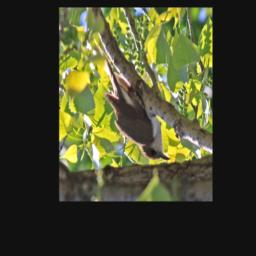Cuckoo: (102, 46, 171, 162)
